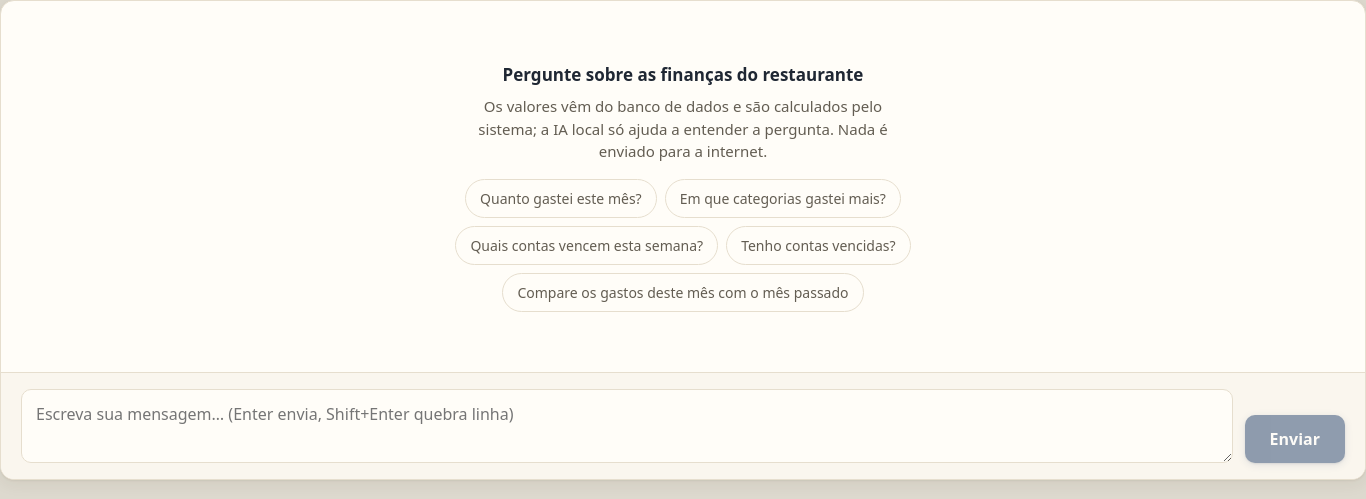
Test: Assistente › identifica a conversa geral sem acesso aos dados
Type "Oi" into the text box named "Mensagem para a IA" at (627, 426), box x1=21 y1=389 x2=1233 y2=463
Then press Enter
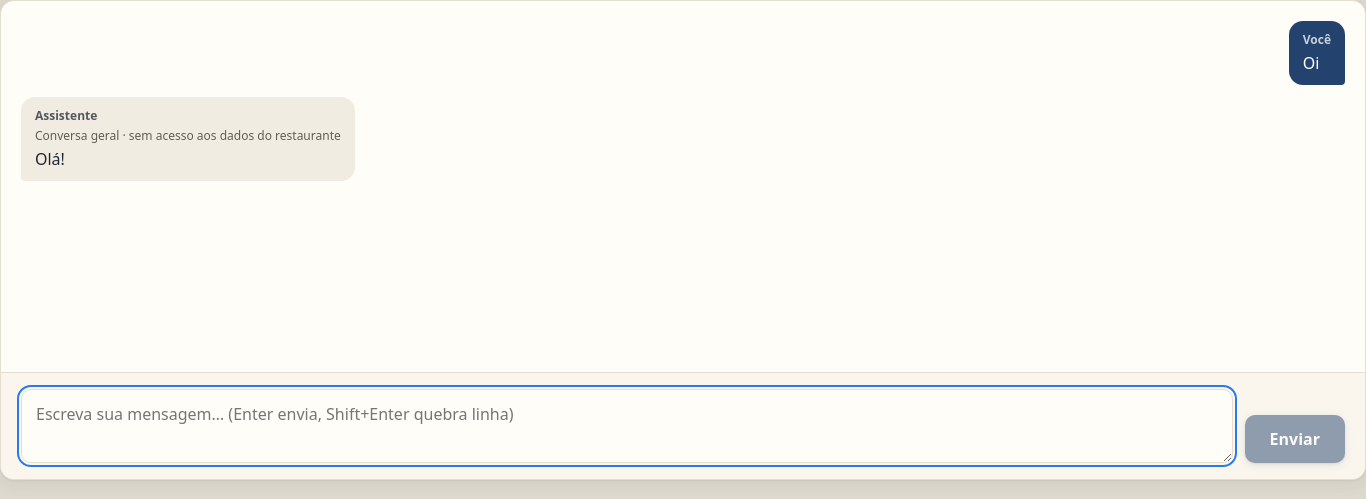
Expected: the text "Conversa geral · sem acesso aos dados do restaurante" is shown, x1=35 y1=127 x2=341 y2=145
